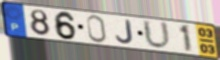0: (85, 13, 109, 44)
1: (179, 23, 196, 55)
6: (53, 10, 80, 41)
8: (29, 8, 52, 37)
J: (114, 19, 135, 45)
U: (141, 19, 173, 51)
